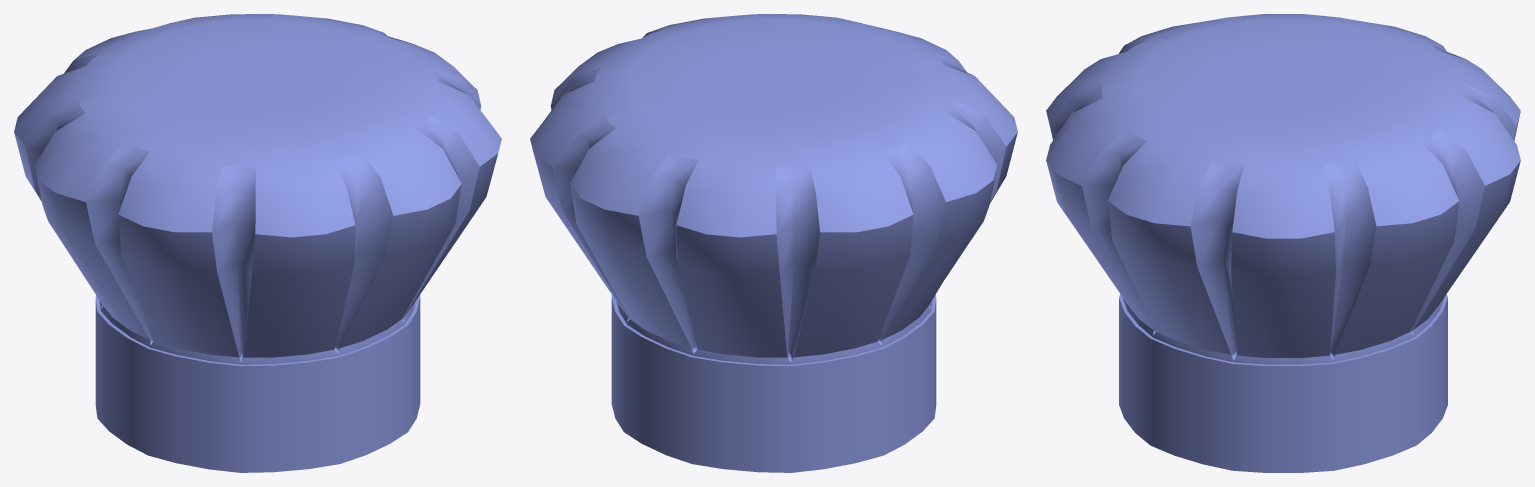
Rendered from hat.glb.
3 renders of one model, left to right at view 1: azimuth 30°, elevation 25°; view 2: azimuth 150°, elevation 25°; view 3: azimuth 270°, elevation 25°, orthographic.
Visible parts, largest first — view 1: chef_hat; view 2: chef_hat; view 3: chef_hat.
Boxes of the visible parts, x1,y1,x2,y2 form: chef_hat: (14, 14, 501, 472); chef_hat: (530, 14, 1017, 472); chef_hat: (1046, 14, 1520, 472).
Bounding box in the file's own units: 1.91 × 1.4 × 1.86.
